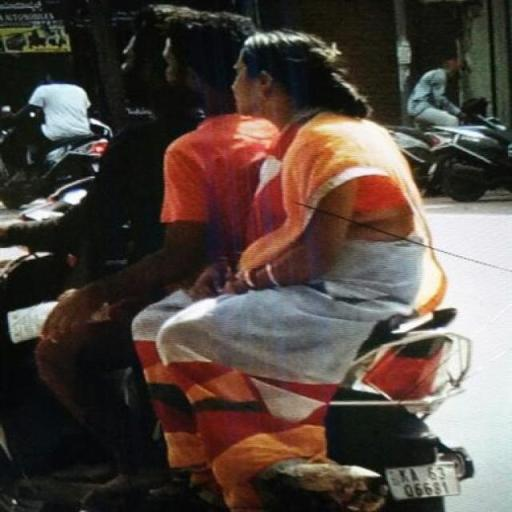tripple riding: (49, 5, 453, 292)
